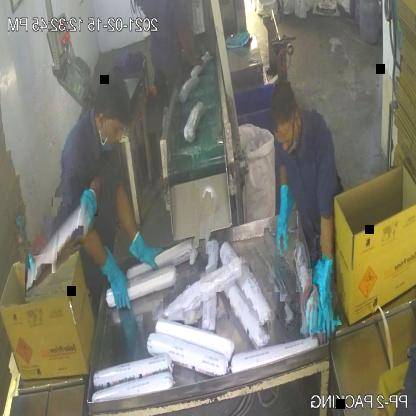glove: (125, 220, 173, 278), (272, 172, 299, 268), (100, 247, 135, 319)
no_glove: (174, 22, 204, 84)
